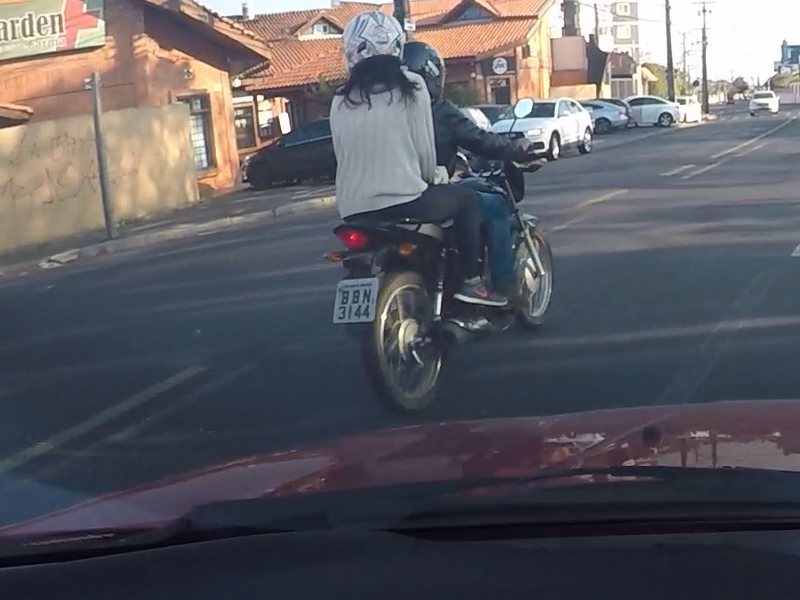placa: (333, 278, 378, 323)
